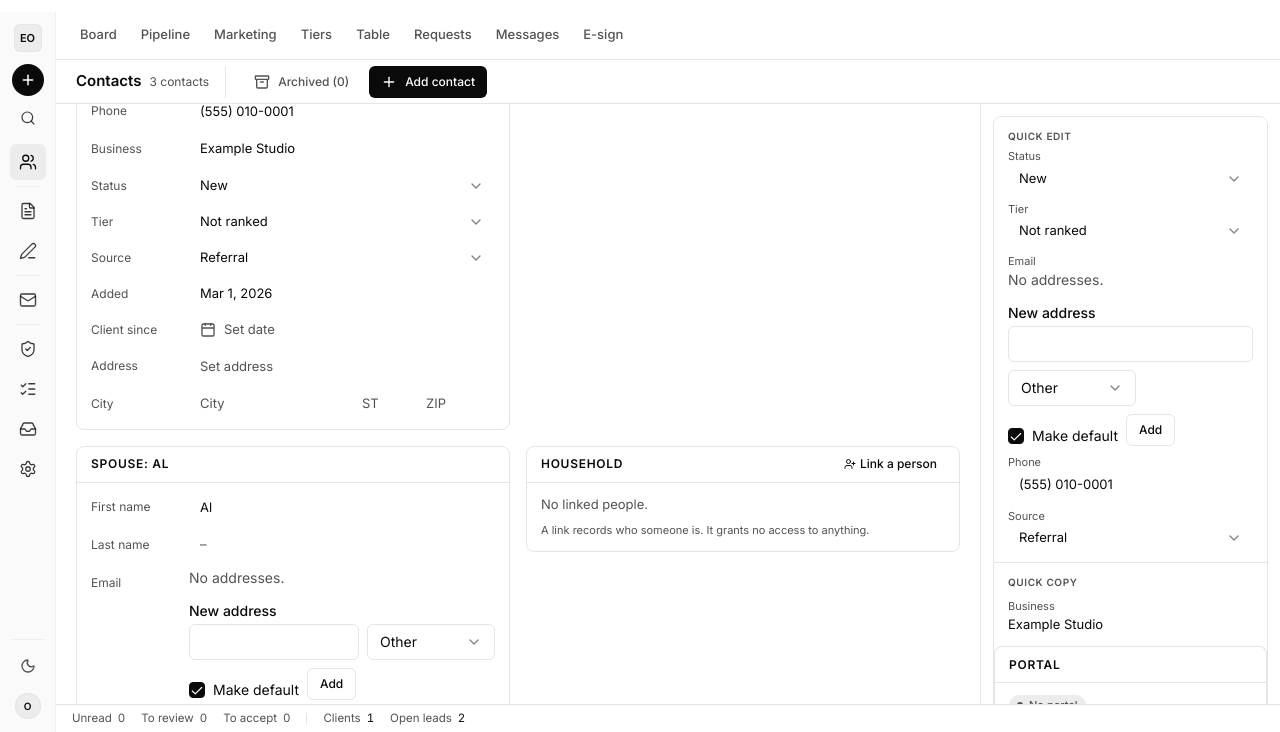
Test: record overview › shows the database's message when a save is refused
The image size is (1280, 732).
(page scrolled)
Click the button with aria-label "City:". click: (266, 404)
box: [189, 389, 343, 418]
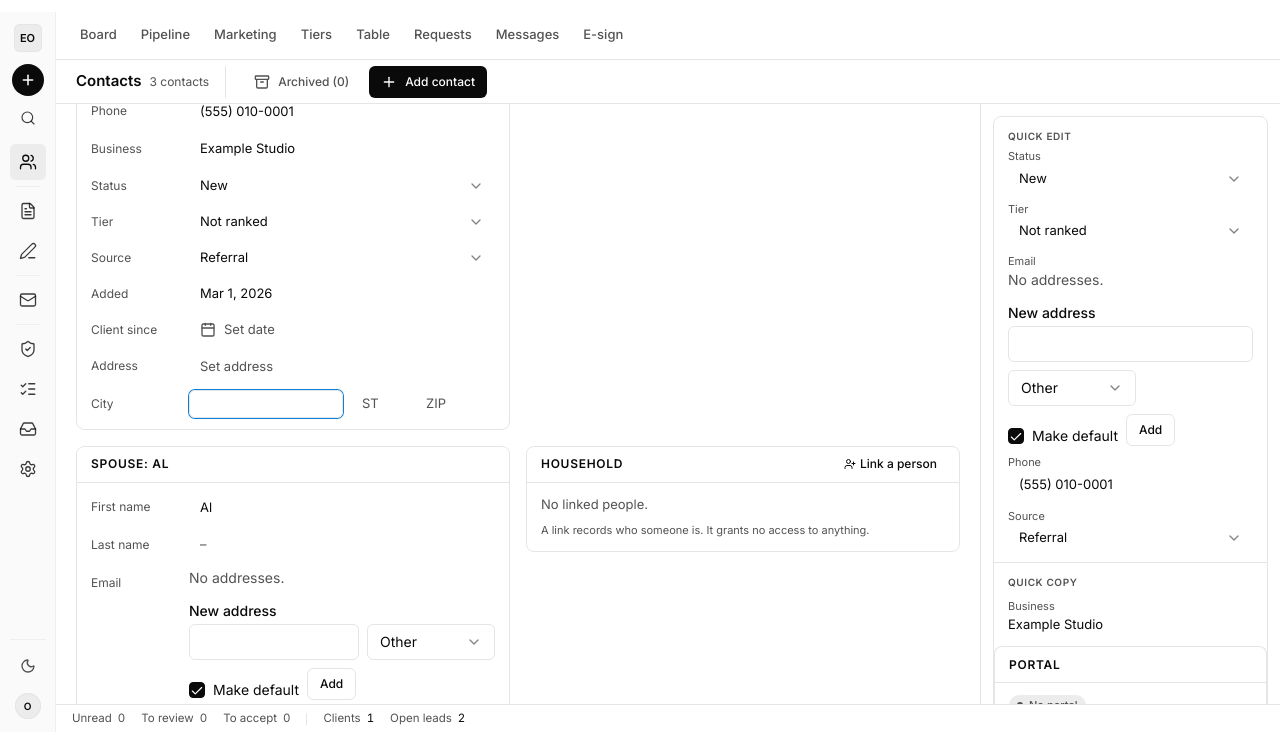
Type "Springfield" into the field named "City". click: (266, 404)
box: [189, 390, 343, 418]
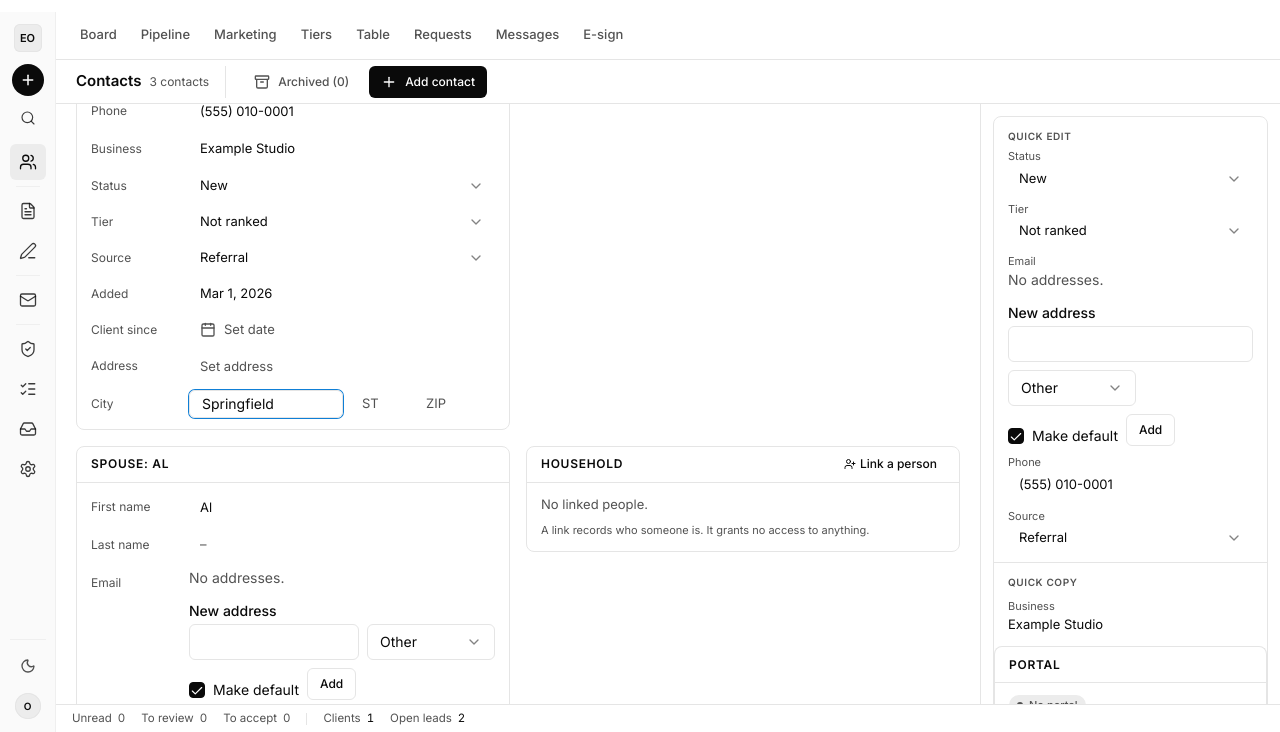
Press Enter in the field named "City", box [189, 390, 343, 418]
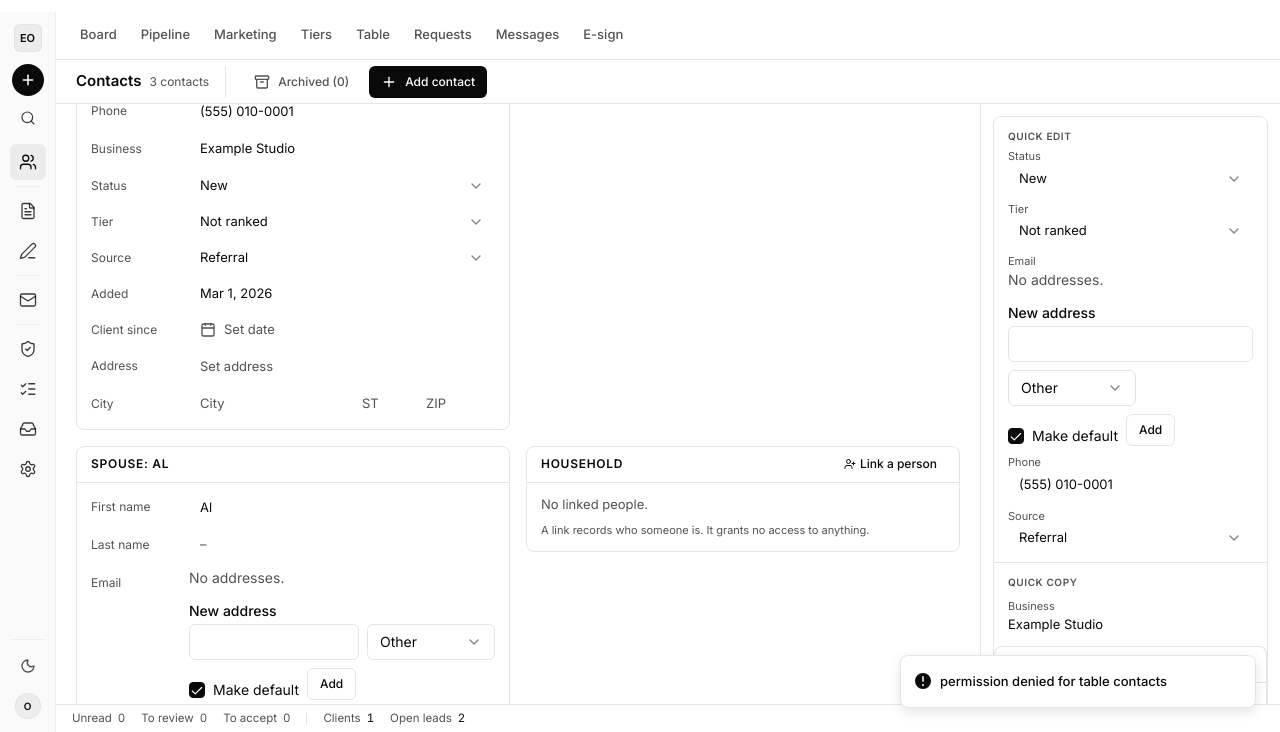
Expected: the text "permission denied for table contacts" is shown, [940, 672, 1167, 691]
